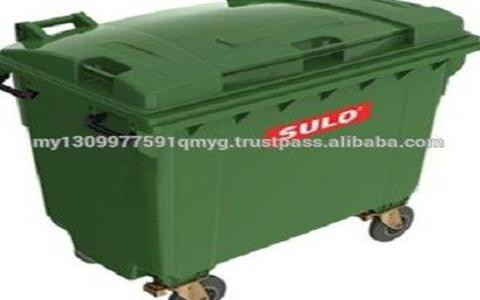Proper garbage: (1, 1, 465, 291)
